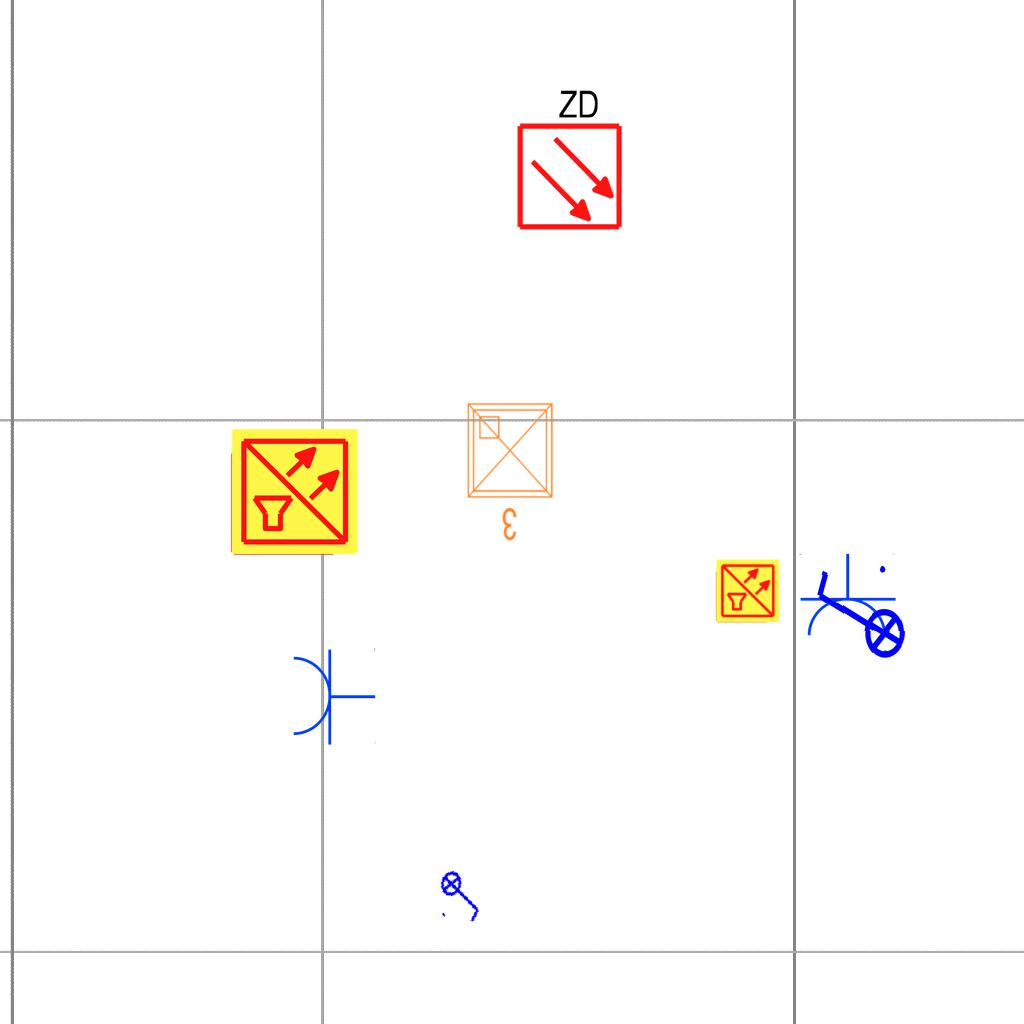Ausschalter_beleuchtet: (808, 559, 908, 675), (432, 862, 492, 928)
Einbaudownlights_LED_Konferenzraeume: (460, 396, 564, 546)
OKW_Multisensormelder_(Kombination_optischer_Rauch-Kahlenmonoxid_Waerme-Melder): (229, 426, 361, 558), (715, 558, 781, 624)
Schukosteckdose_einfach: (797, 553, 897, 640), (289, 646, 376, 746)
ZD_Melder_in_Zwischendecke_mit_Revisionsoeffnung_mind_40_x_40_cm: (511, 83, 625, 232)
